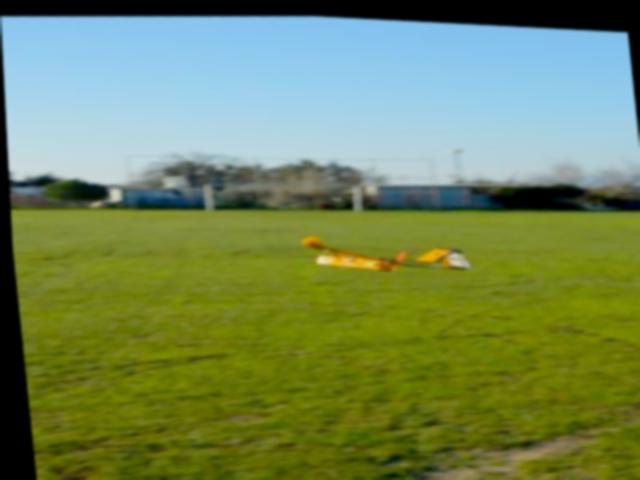iha: (286, 207, 475, 281)
